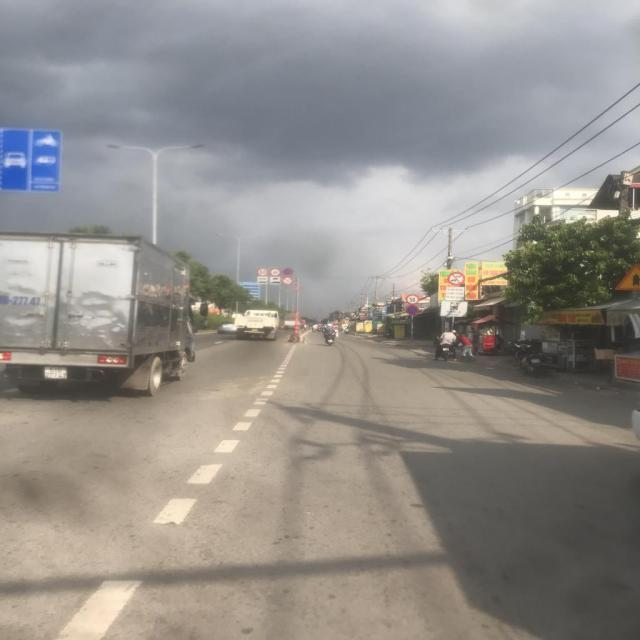cam_dung_xe_va_do_xe: (406, 304, 419, 316), (282, 267, 293, 276)
cam_o_to_tai_va_xe_khach: (446, 272, 466, 286)
cam_xe_2_banh_va_xe_3_banh_co_dong_co: (282, 278, 294, 286)
giao_nhau_voi_duong_khong_uu_tien: (613, 262, 640, 290)
khac: (440, 301, 468, 317), (446, 287, 464, 301), (258, 276, 268, 281), (258, 280, 268, 284), (270, 280, 280, 284), (270, 277, 280, 280)
lan_duong_cho_tung_xe_theo_vach_ke_duong: (0, 129, 61, 193)
toc_do_toi_da_50: (406, 294, 420, 305)
toc_do_toi_da_60: (270, 268, 281, 276)
toc_do_toi_da_80: (258, 268, 268, 276)
